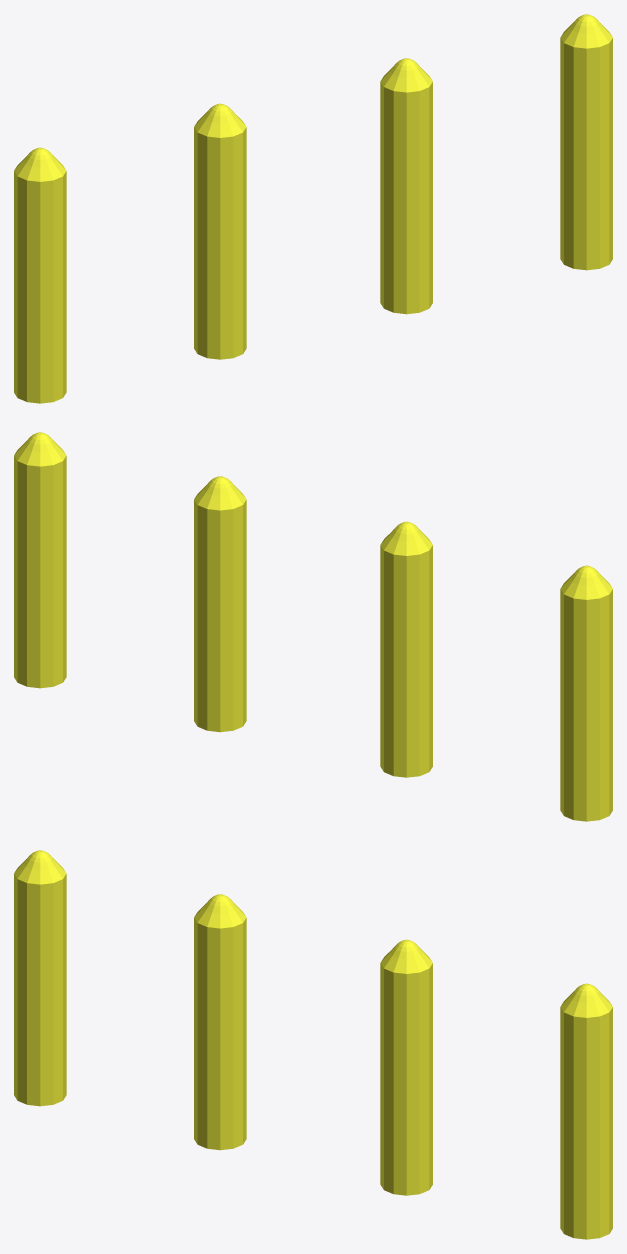
Rendered from Road_Pins.fbx.
3 renders of one model, top to bottom at view 1: azimuth 30°, elevation 25°; view 2: azimuth 150°, elevation 25°; view 3: azimuth 330°, elevation 25°, orthographic.
Parts seen in each view (by area): view 1: Cylinder.002; view 2: Cylinder.002; view 3: Cylinder.002.
Part boxes in pixels (<box>): Cylinder.002: <box>14,14,612,403</box>; Cylinder.002: <box>14,432,612,821</box>; Cylinder.002: <box>14,850,612,1239</box>.
Bounding box in the file's own units: 4.26 × 1.67 × 0.3274.
